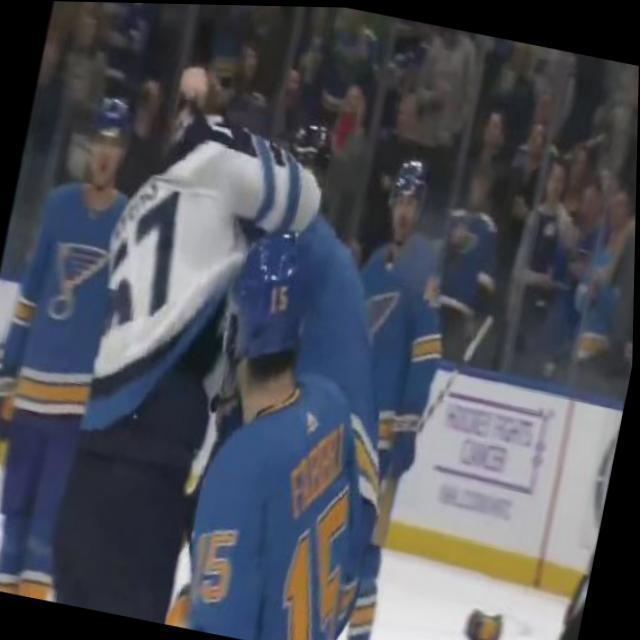fight: (72, 56, 403, 518)
